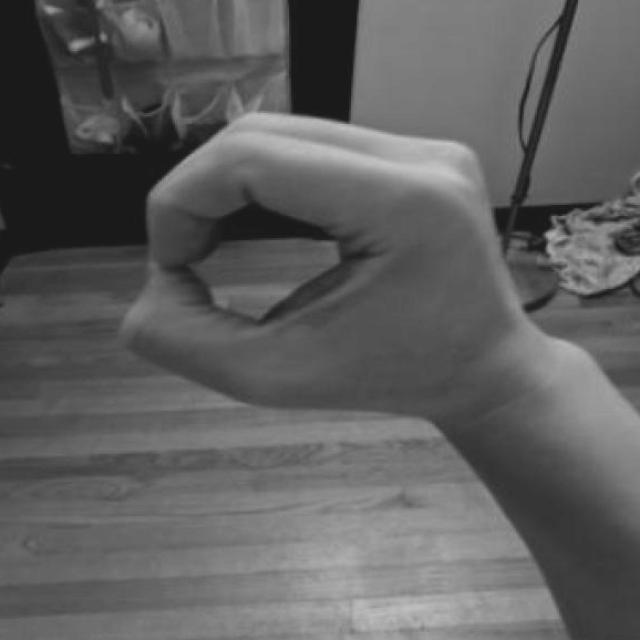O: (108, 83, 560, 474)
